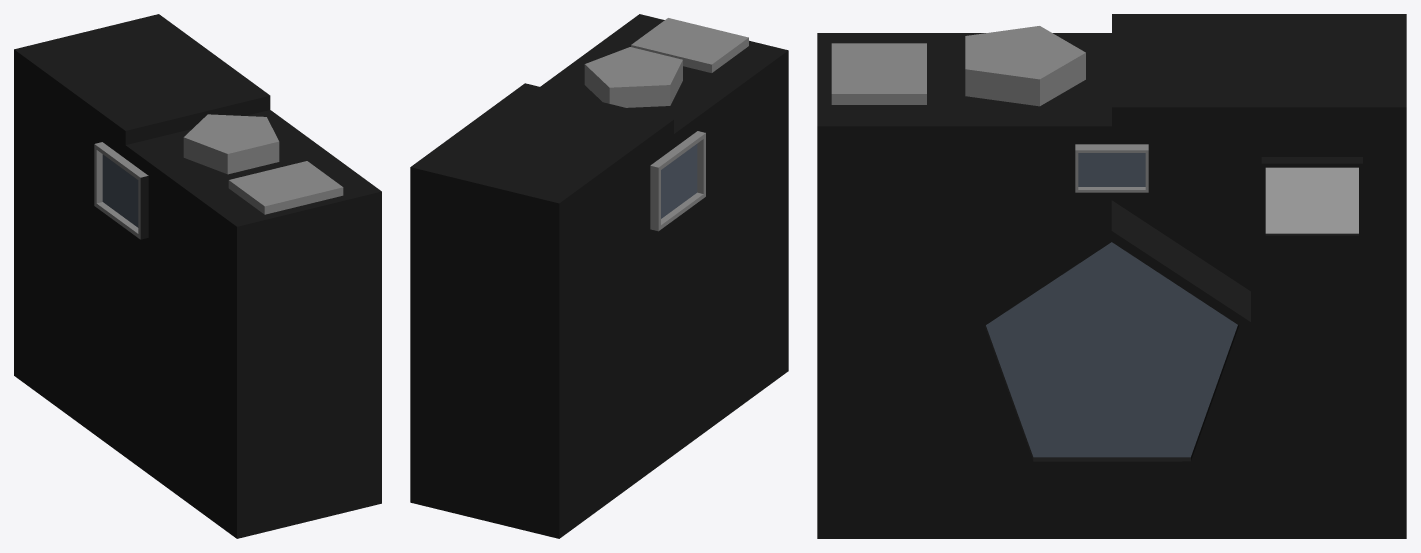
The model's file is Camera.gltf.
The picture shows the model from 3 angles, left to right: view 1: azimuth 30°, elevation 25°; view 2: azimuth 150°, elevation 25°; view 3: azimuth 270°, elevation 25°; orthographic projection. The views are drawn at different scales.
Parts seen in each view (by area): view 1: Cube; view 2: Cube; view 3: Cube.
Boxes of the visible parts, x1,y1,x2,y2 form: Cube: (14, 14, 381, 538); Cube: (410, 14, 788, 538); Cube: (817, 14, 1406, 538).
Size of the model in its own units: 2.09 by 3.32 by 4.03.
